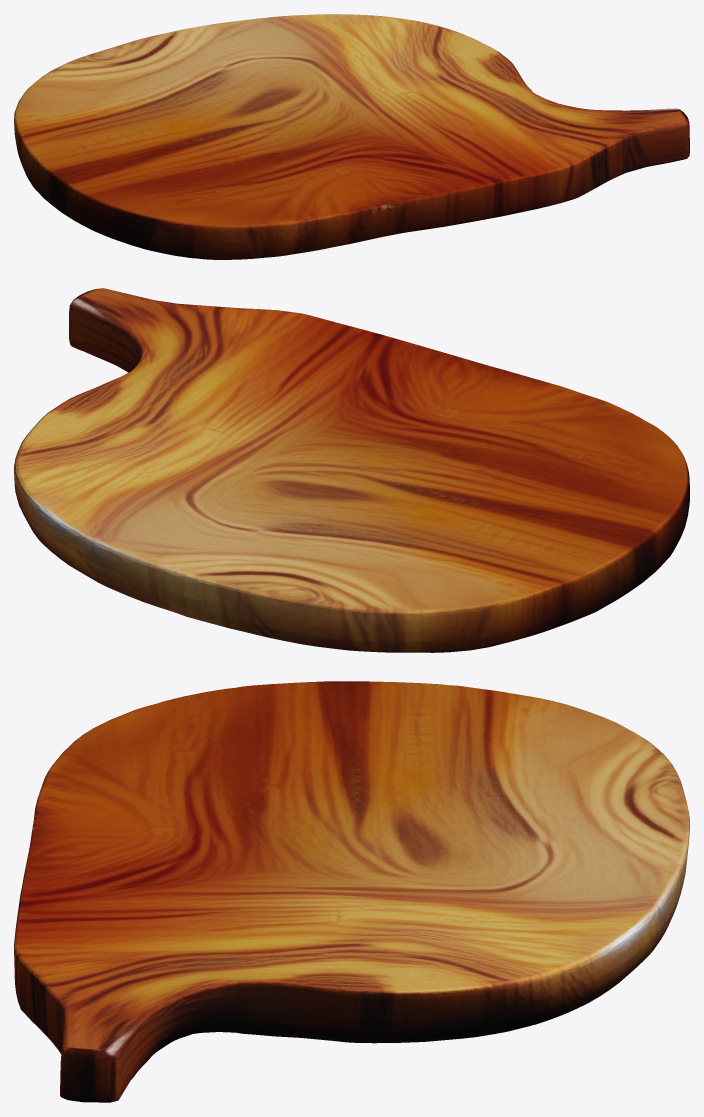
Rendered from wooden-cheese-board-dune.jpeg.glb.
3 views of the same model, one above another, from view 1: azimuth 30°, elevation 25°; view 2: azimuth 150°, elevation 25°; view 3: azimuth 270°, elevation 25° (orthographic). The views are drawn at different scales.
Visible parts, largest first — view 1: world; view 2: world; view 3: world.
Part boxes in pixels (x1,y1,x2,y2): world: (14,14,689,259); world: (14,288,689,652); world: (14,681,689,1102).
Bounding box in the file's own units: 1 × 0.0758 × 0.764.
1 material, 1 textured.
